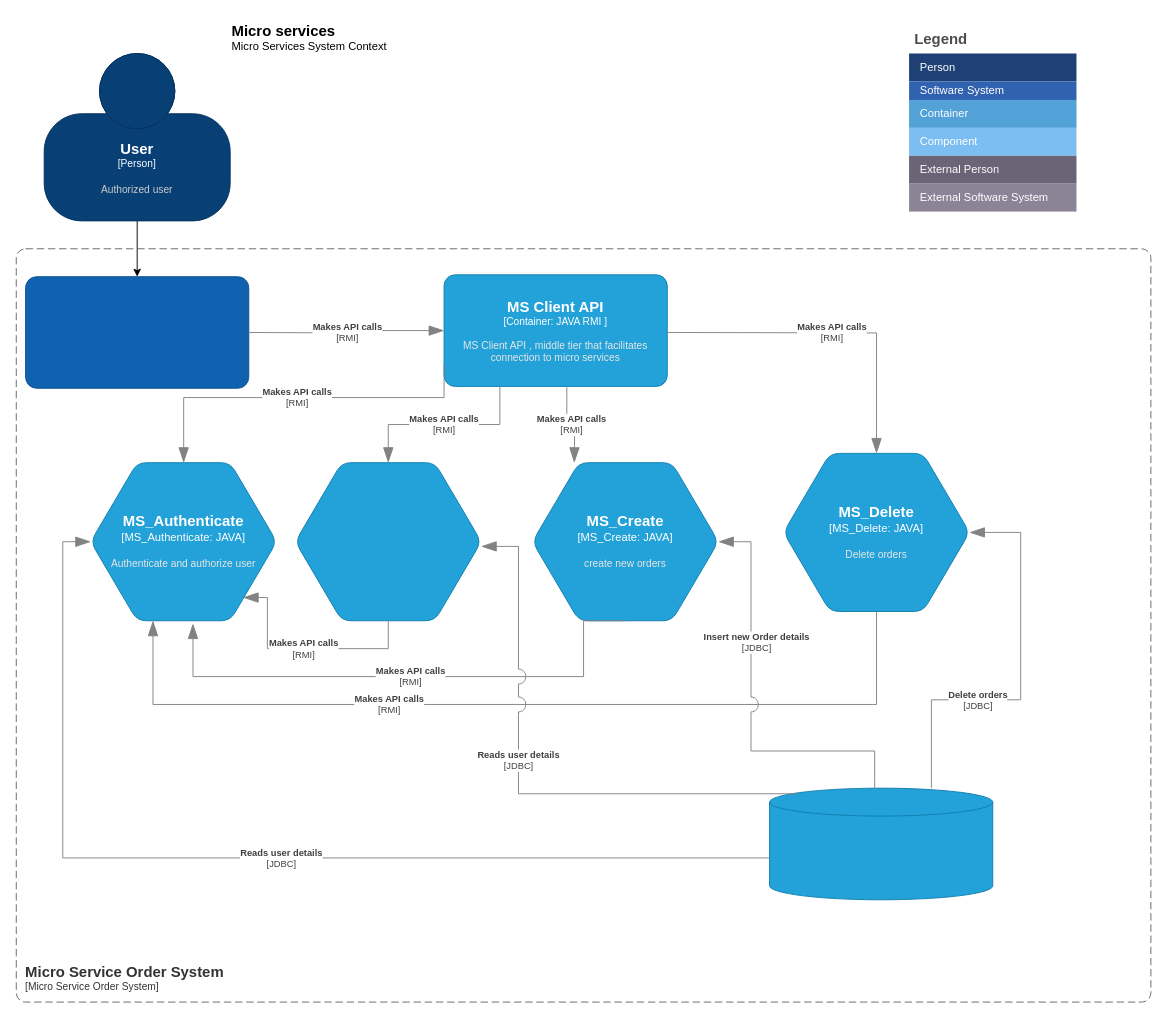
This 1167x1018 diagram has some shape labels left out. Each missing label, with the centre of its shape:
"MS_OrderInfo [MS_OrderInfo: MySQL] Stores order and user details" goes at [881,843].
"MS_Retrieve [MS_Retrieve: JAVA] Read only service for Order details" goes at [387,541].
"OrdersUI [Software System] OrdersUI" goes at [137,332].
